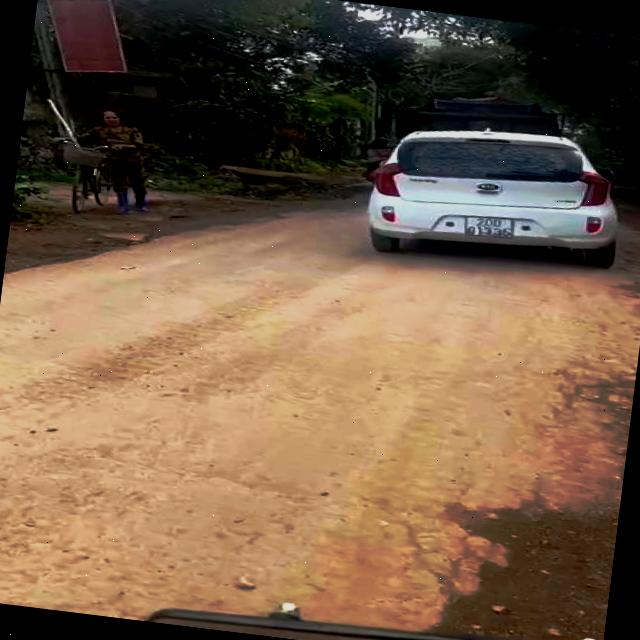pothole: (372, 477, 619, 640)
